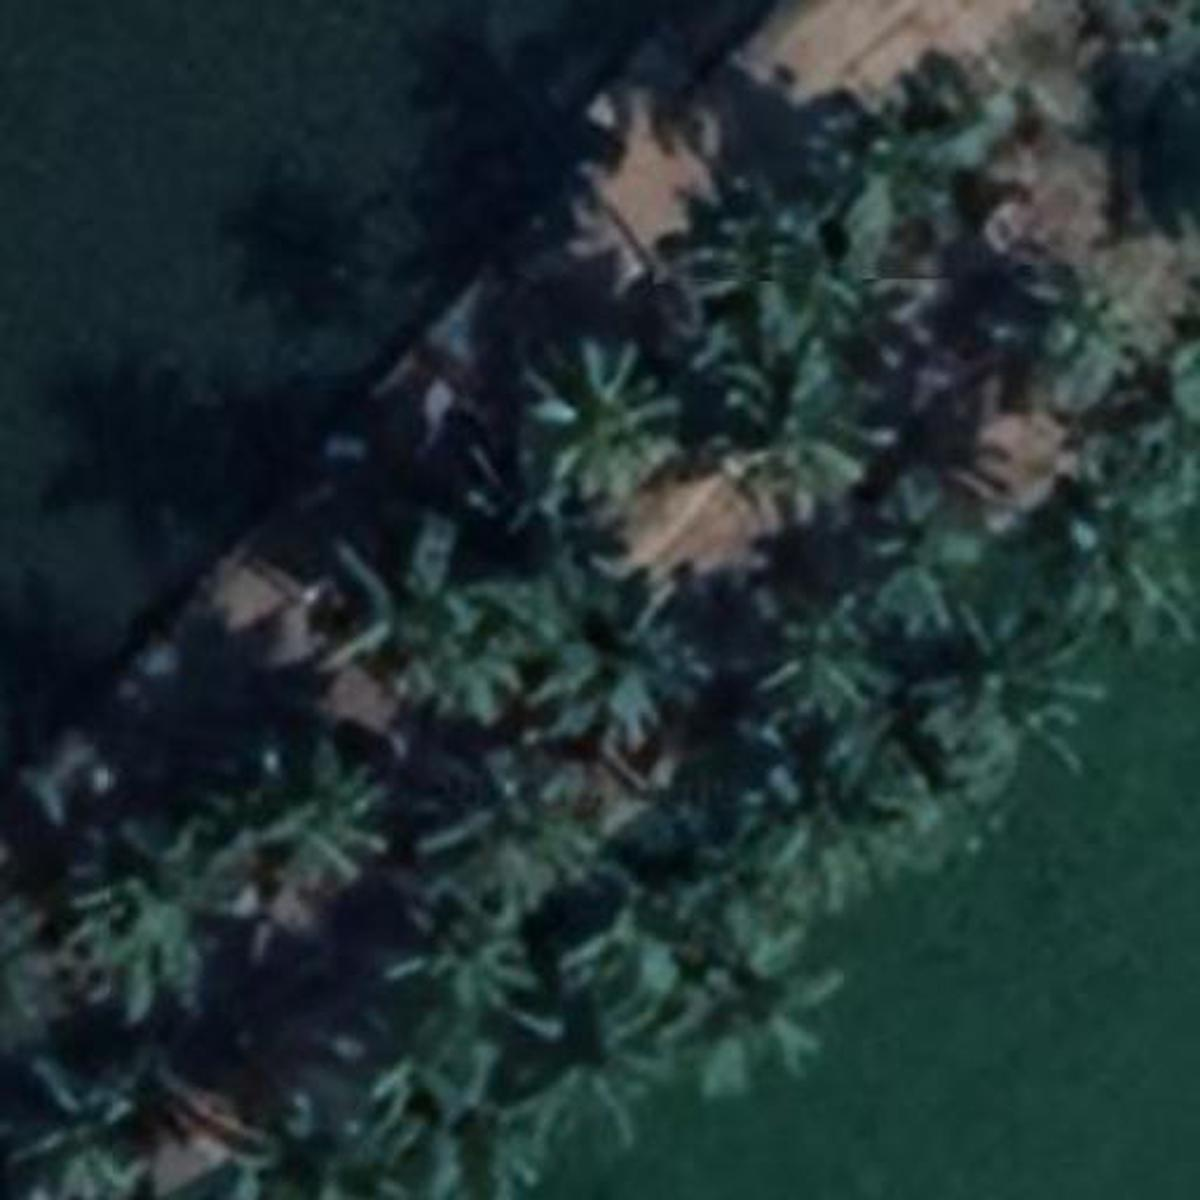coconut: (520, 330, 707, 543), (918, 595, 1108, 795), (546, 549, 721, 757), (421, 749, 621, 921), (65, 829, 253, 1010), (656, 795, 834, 958), (675, 205, 871, 353), (382, 911, 574, 1062), (325, 522, 499, 677), (686, 938, 851, 1092), (410, 1054, 590, 1192), (727, 377, 881, 538), (768, 747, 921, 909), (4, 1059, 187, 1195), (1057, 485, 1200, 656), (548, 979, 693, 1143), (251, 740, 405, 890), (829, 89, 989, 234), (747, 588, 900, 740), (855, 471, 1000, 623), (1014, 269, 1160, 419), (396, 576, 534, 731), (234, 1080, 410, 1190), (1087, 335, 1192, 495)
